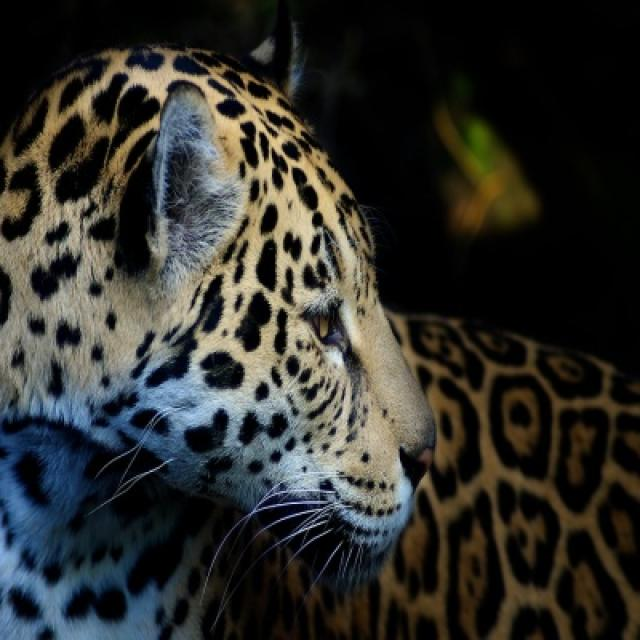Jaguar: (0, 42, 437, 638)
